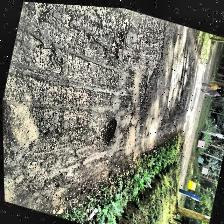pothole: (98, 114, 120, 146)
